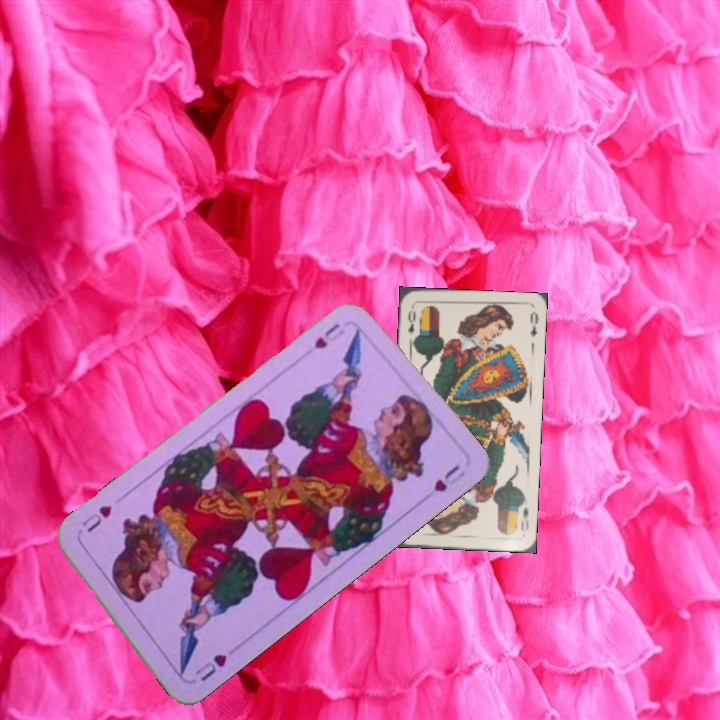EO: (404, 302, 418, 338), (517, 503, 531, 533)
HU: (191, 649, 230, 684), (309, 319, 343, 352)
